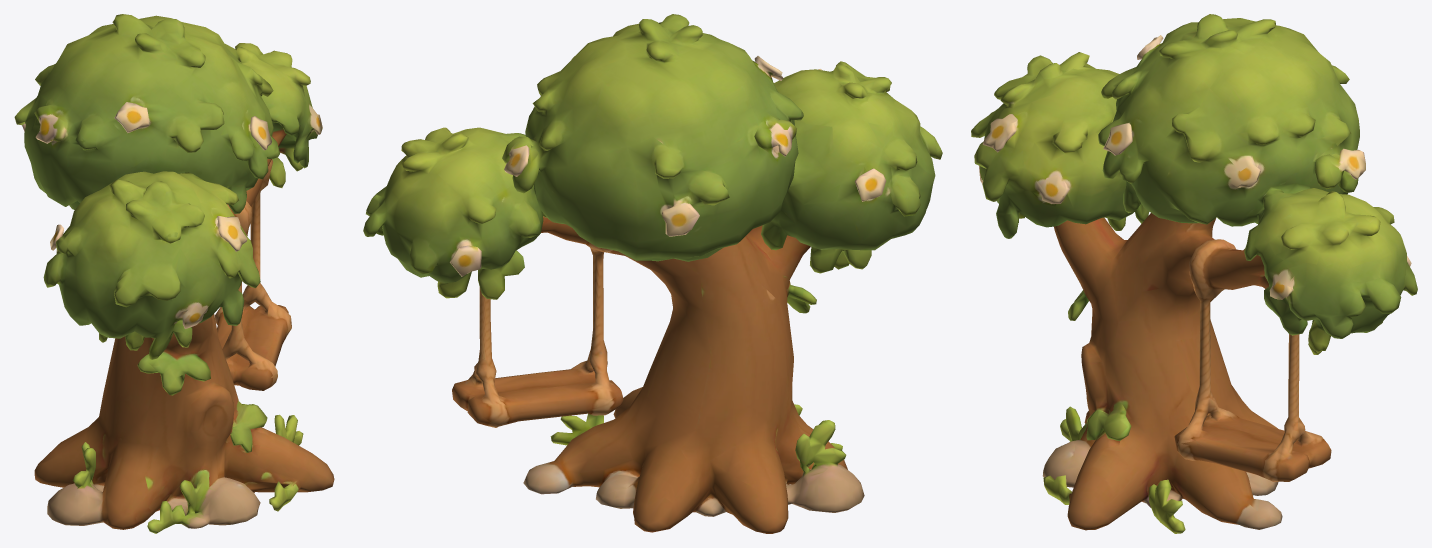
3 renders of one model, left to right at view 1: azimuth 30°, elevation 25°; view 2: azimuth 150°, elevation 25°; view 3: azimuth 270°, elevation 25°, orthographic. The views are drawn at different scales.
Parts seen in each view (by area): view 1: tree-swing; view 2: tree-swing; view 3: tree-swing.
Boxes of the visible parts, box(x1,y1,x2,y2) form: tree-swing: box(14, 14, 334, 533); tree-swing: box(363, 14, 942, 533); tree-swing: box(971, 14, 1417, 533).
Size of the model in its own units: 4.6 by 5 by 4.46.
Materials: 1 (1 with a texture image).
